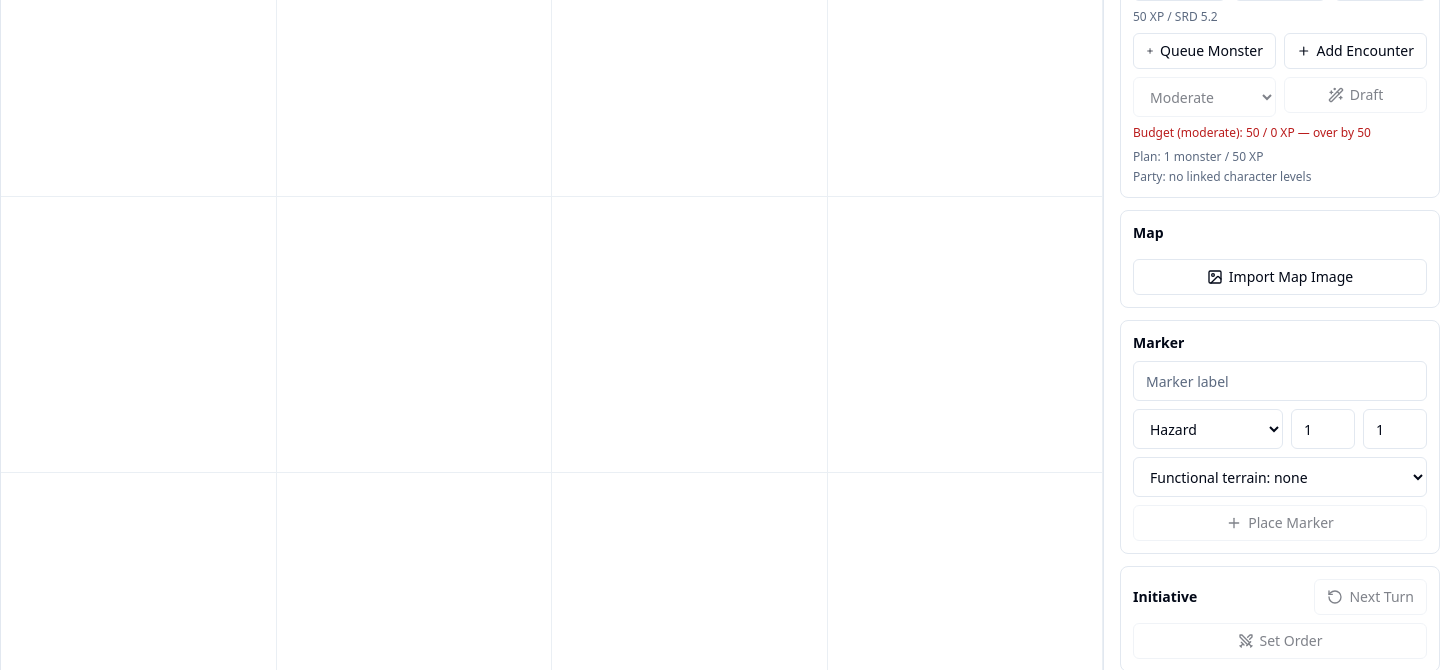
Scenario: SceneManager › authors a functional-terrain preset onto the placed marker and surfaces it as a badge
The image size is (1440, 670).
(page scrolled)
Step 1. Type "Boulder" into the field labelled "Marker label" → [1280, 381], box left=1133, top=361, right=1427, bottom=401
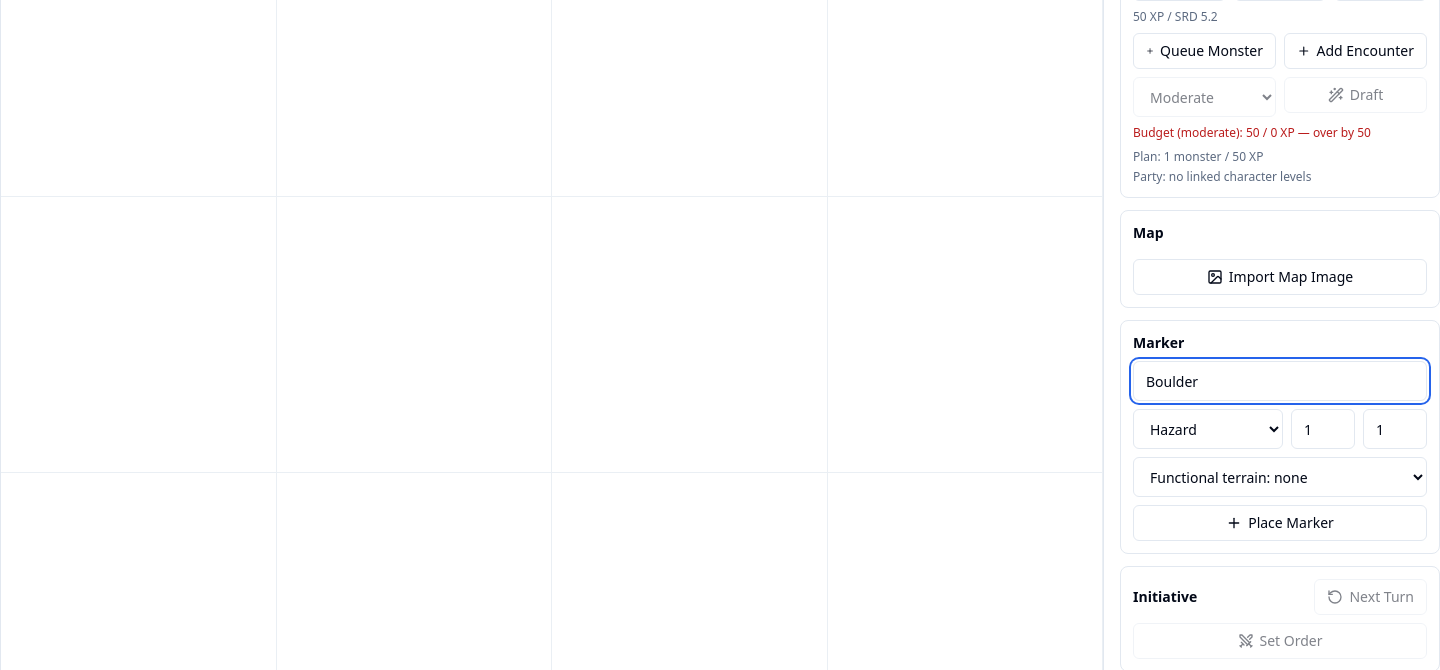
Step 2. Select "Cover (+5 defense)" in the dropdown named "functional terrain" → [1280, 477], box left=1133, top=457, right=1427, bottom=497
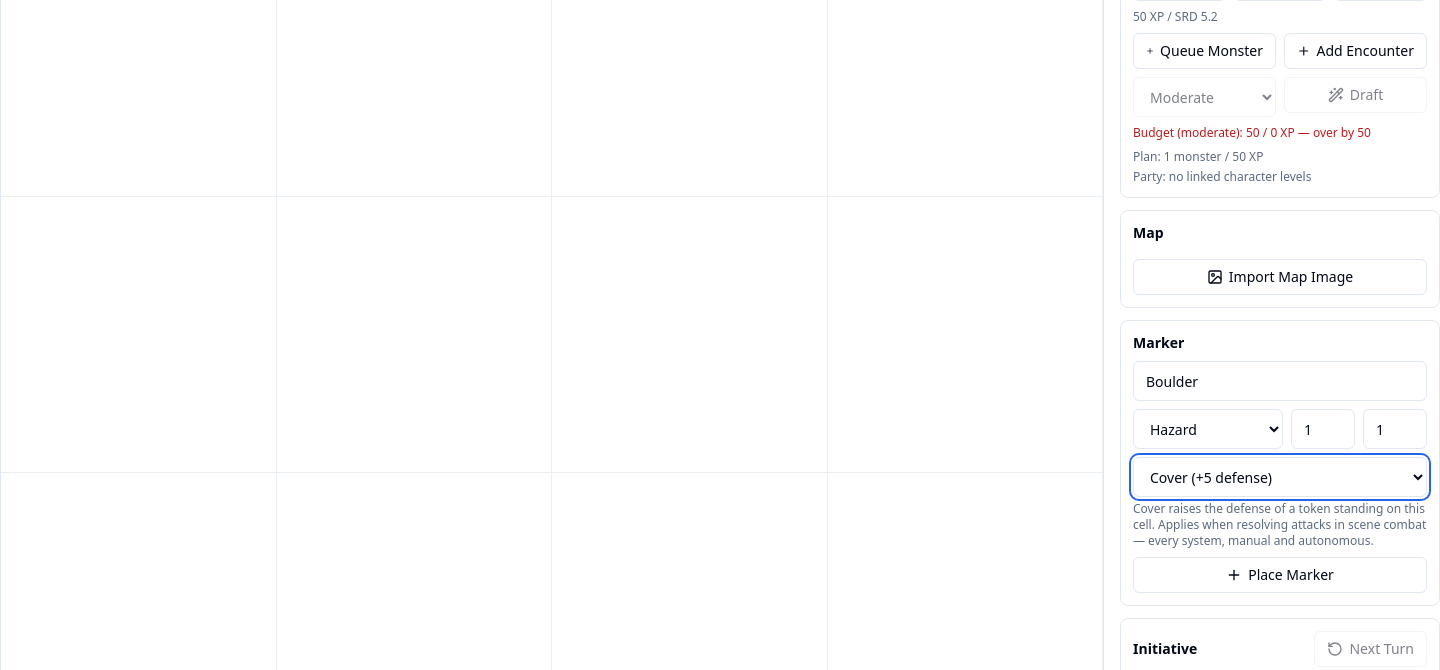
Step 3. Click the button "Place Marker" → [1280, 575], box left=1133, top=557, right=1427, bottom=593
(page scrolled)
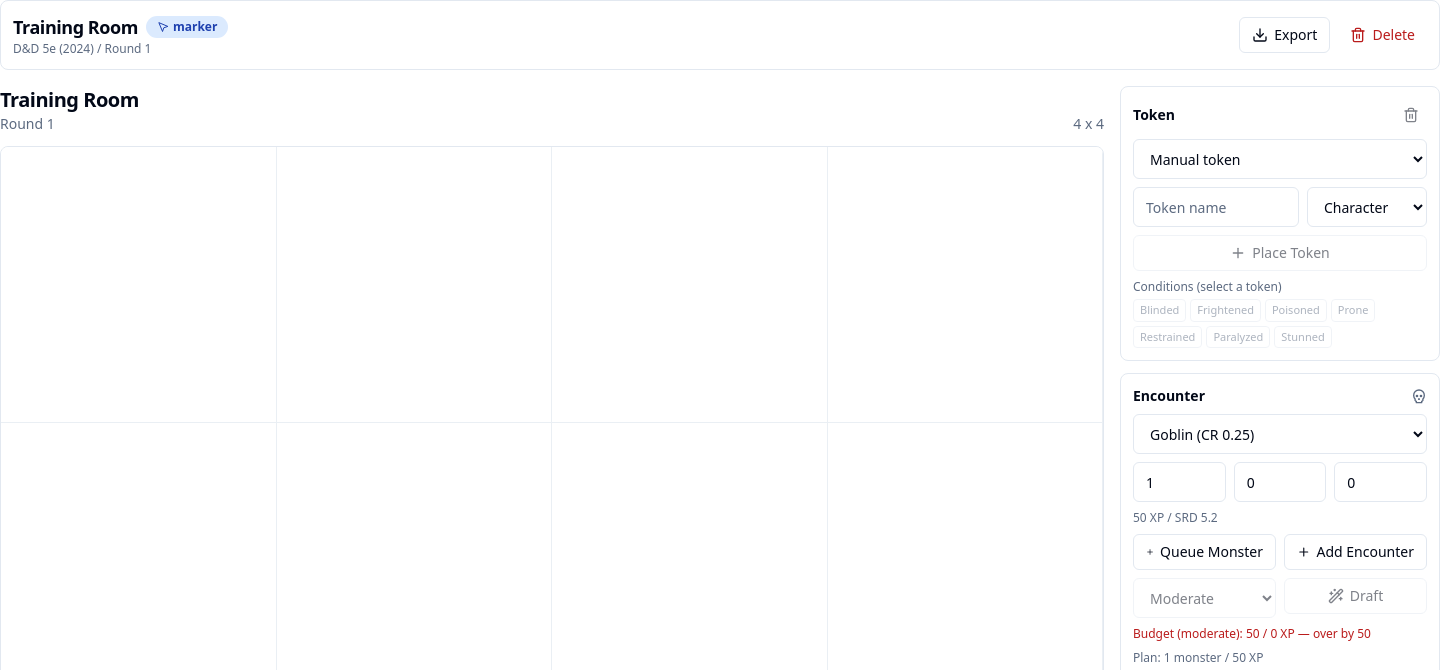
Step 4. Click the cell named "Cell 1, 1" → [139, 285], box left=1, top=147, right=276, bottom=422
(page scrolled)
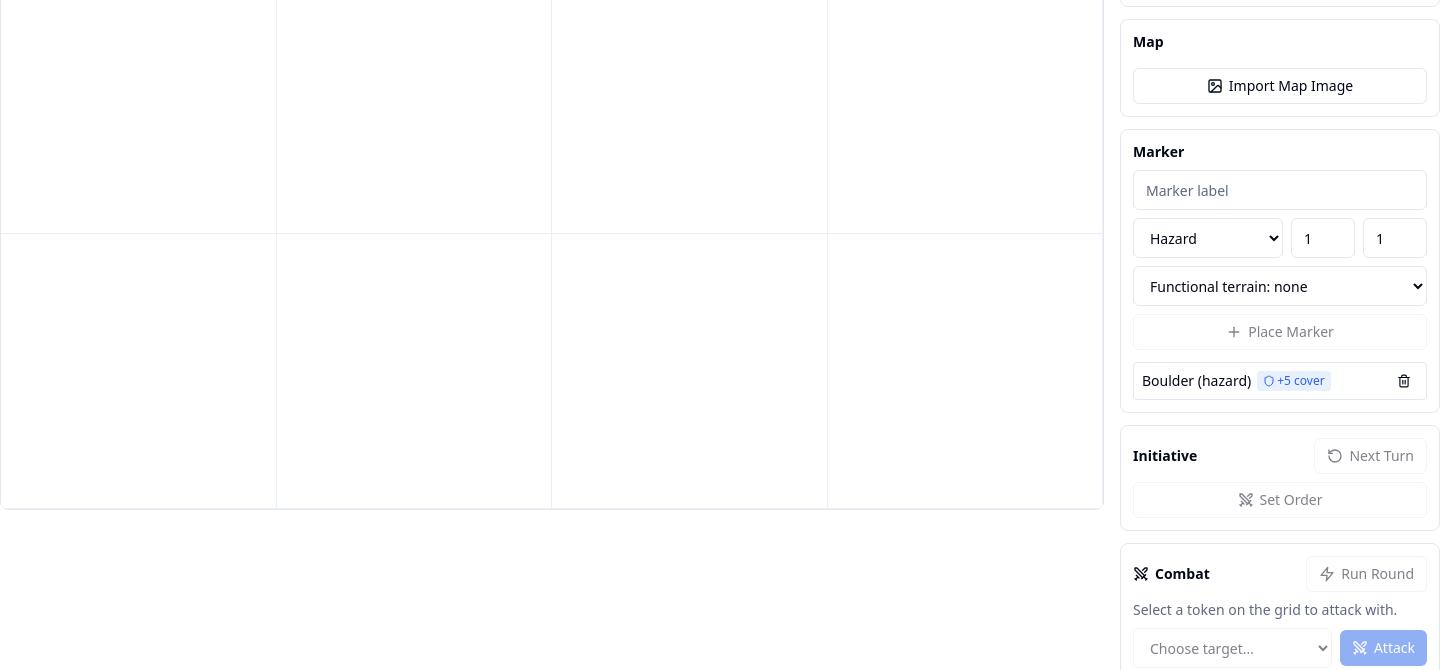
Expected: the text "+5 cover" is shown, left=1257, top=371, right=1331, bottom=391
